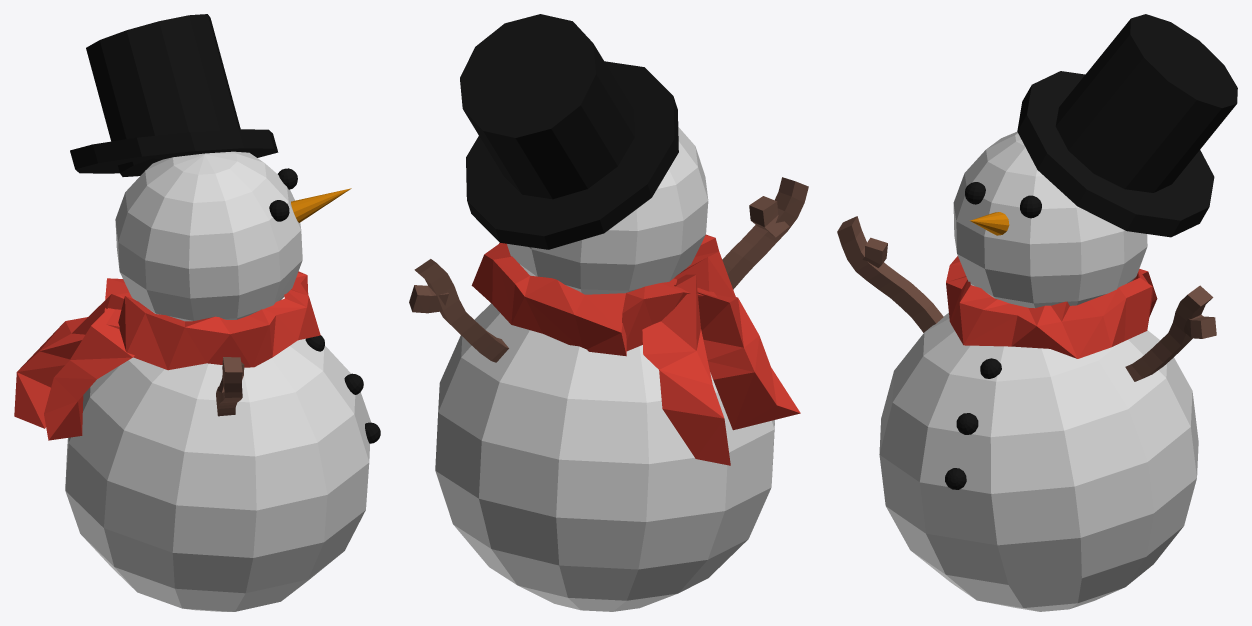
3 views of the same model, side by side, from view 1: azimuth 30°, elevation 25°; view 2: azimuth 150°, elevation 25°; view 3: azimuth 270°, elevation 25° (orthographic). The views are drawn at different scales.
Parts seen in each view (by area): view 1: node_MeshObject1551441472-PolyPaper21; view 2: node_MeshObject1551441472-PolyPaper21; view 3: node_MeshObject1551441472-PolyPaper21.
Boxes of the visible parts, x1,y1,x2,y2 form: node_MeshObject1551441472-PolyPaper21: (14,14,380,611); node_MeshObject1551441472-PolyPaper21: (409,14,808,611); node_MeshObject1551441472-PolyPaper21: (837,14,1237,611).
Size of the model in its own units: 0.9627 by 1.66 by 1.06.
